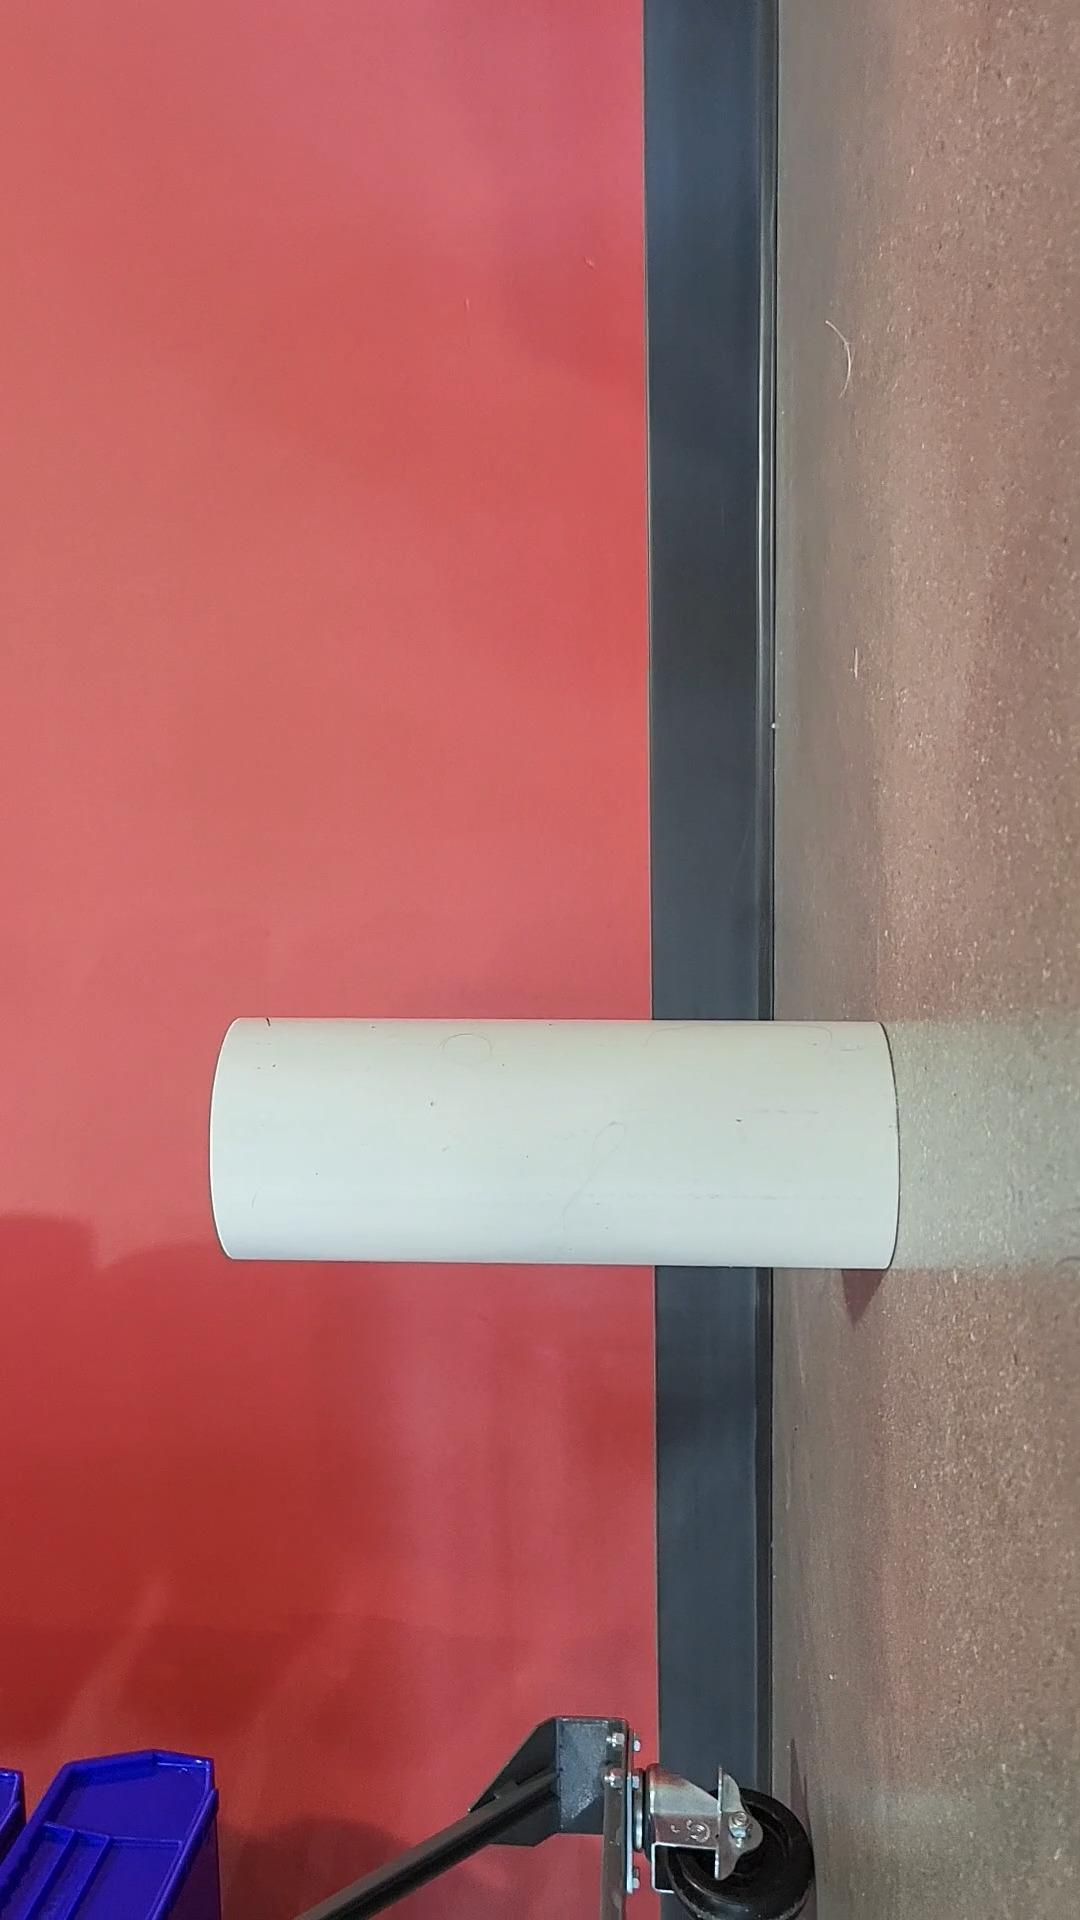coral: (196, 994, 914, 1283)
